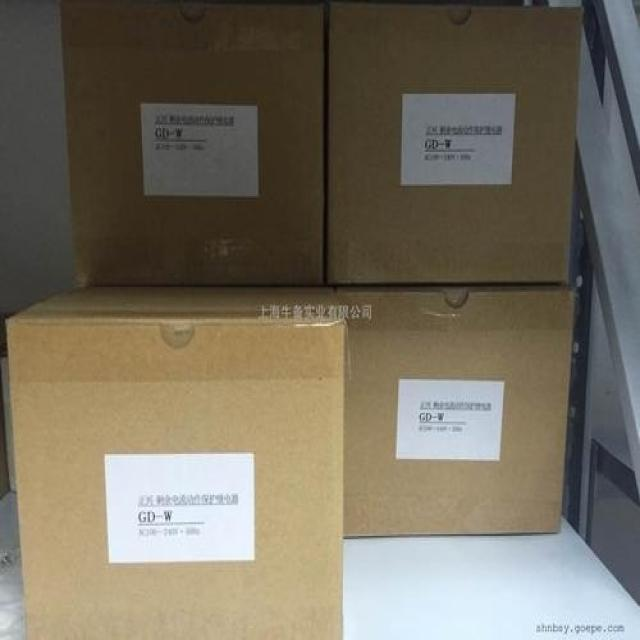box: (5, 287, 347, 640), (60, 0, 324, 285), (328, 283, 572, 538)
